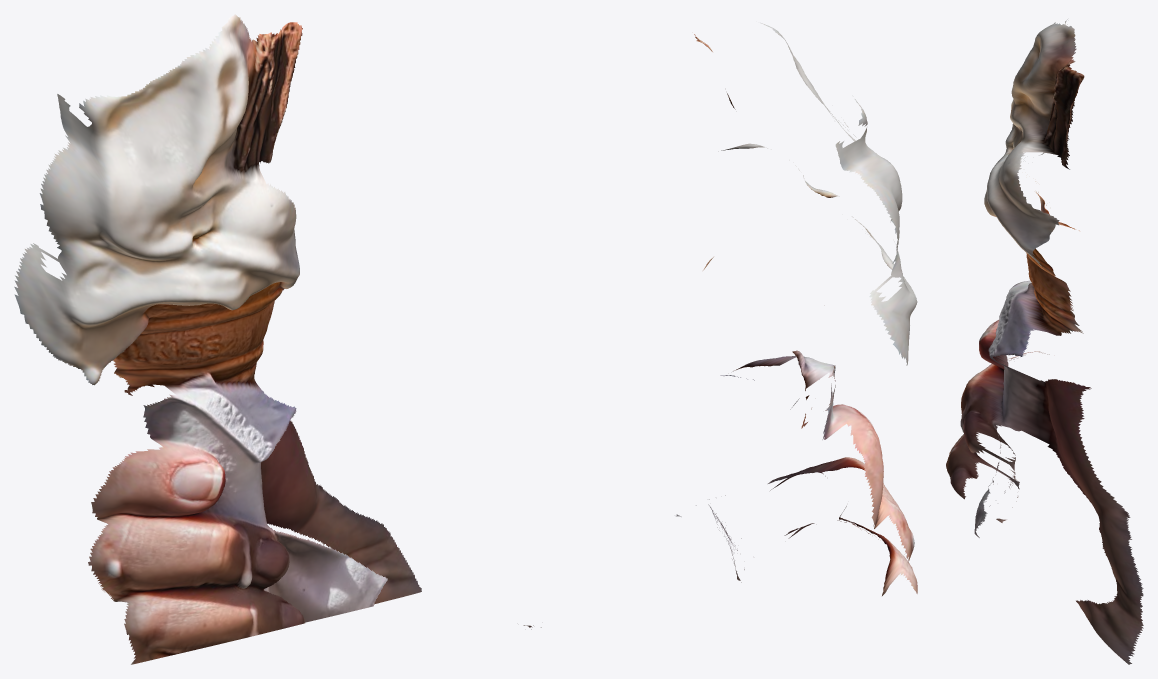
3 renders of one model, left to right at view 1: azimuth 30°, elevation 25°; view 2: azimuth 150°, elevation 25°; view 3: azimuth 270°, elevation 25°, orthographic. The views are drawn at different scales.
Visible parts, largest first — view 1: world; view 2: world; view 3: world.
Boxes of the visible parts, x1,y1,x2,y2 form: world: (14,14,421,664); world: (523,22,917,629); world: (946,19,1143,664).
Bounding box in the file's own units: 1.14 × 1.71 × 0.5614.
Materials: 1 (1 with a texture image).
